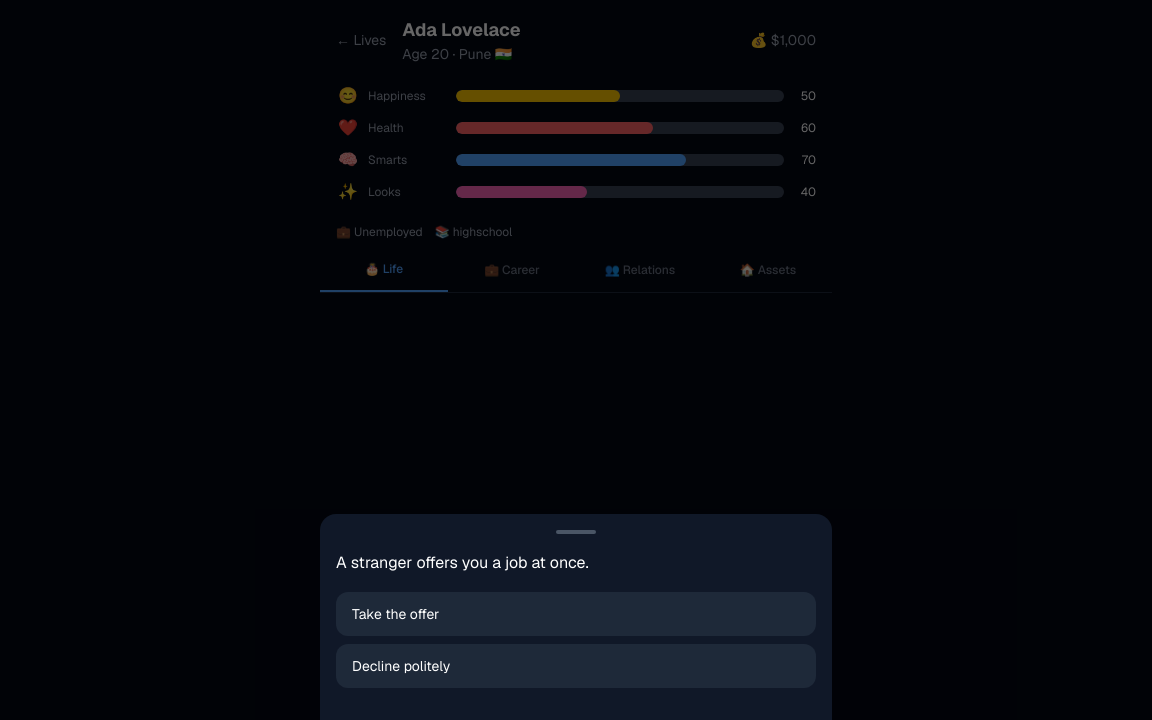
Test: GameDashboard › closes the modal after a successful choice without sending eventPayload
Click the button "Take the offer".
click(396, 614)  # box [336,592,816,636]
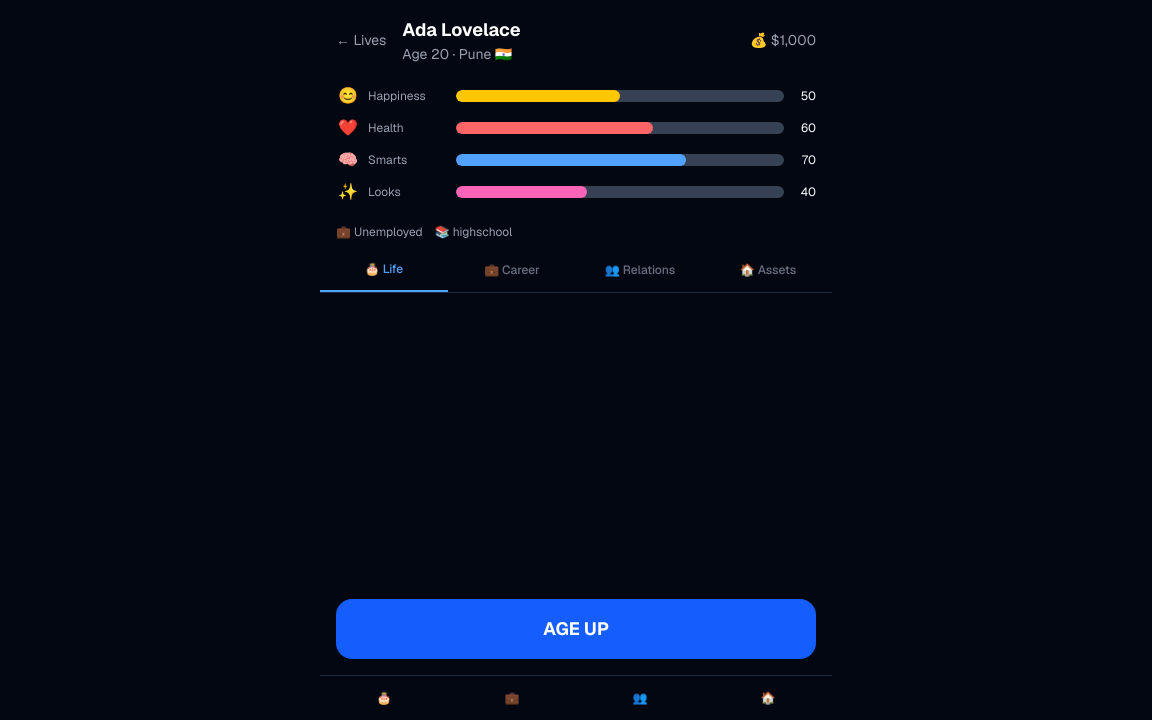
Now the text "A stranger offers you a job at once." is gone
